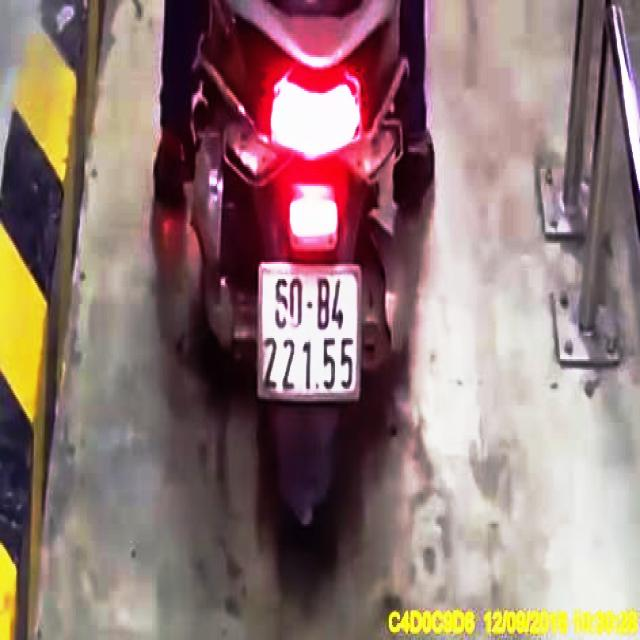license_plate: (260, 266, 362, 399)
